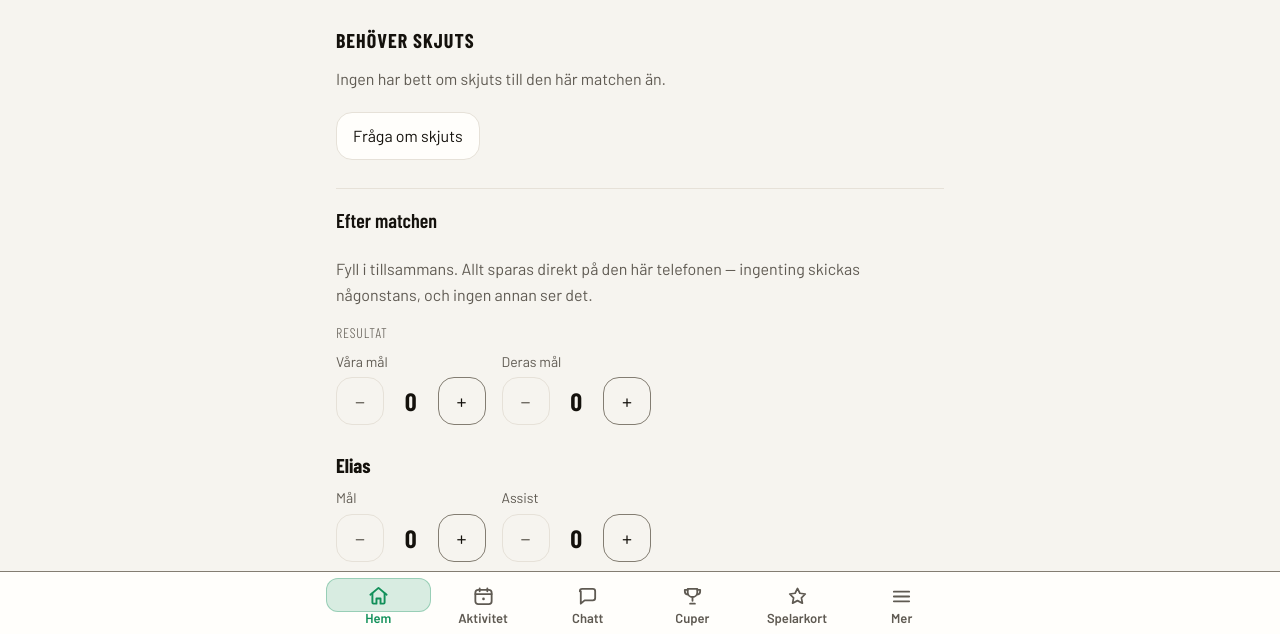
Test: firandet sker när märket låses upp › dyker upp i matchrapporten när målet fylls i
(page scrolled)
Expected: the text "Nytt märke!" is not shown
Click the button named "Öka Mål — Elias" at (462, 538), box [438,514,486,562]
(page scrolled)
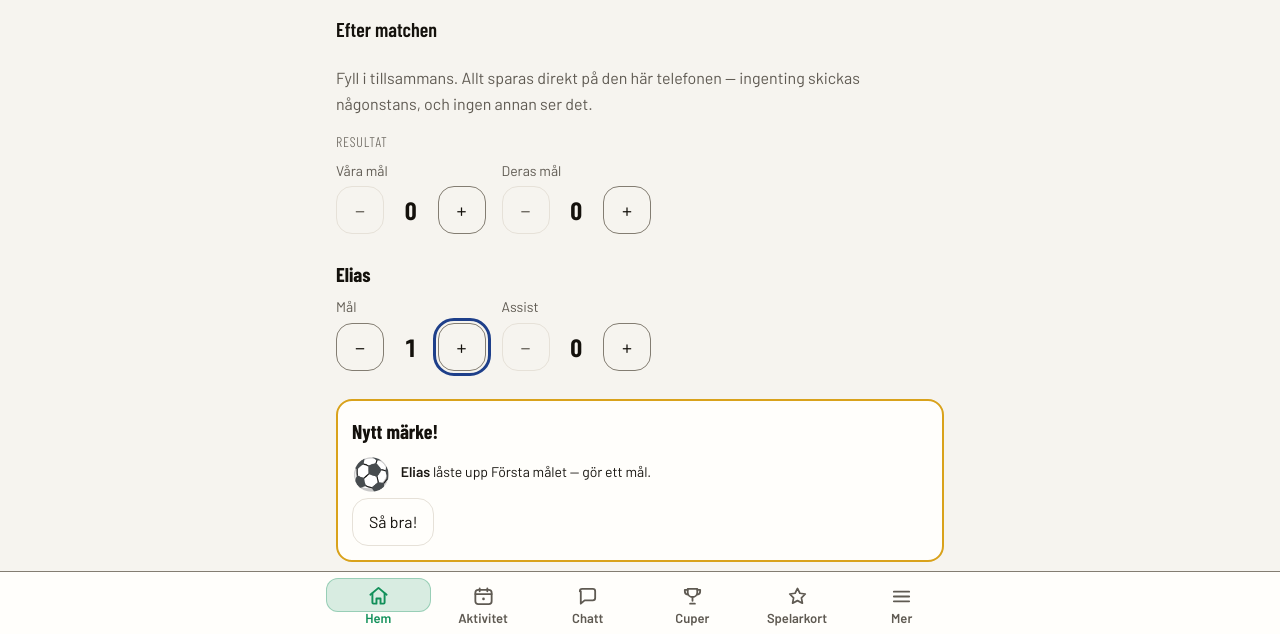
Expected: the heading "Nytt märke!" is shown, [352,415,438,447]
Expected: the text "Elias låste upp Första målet — gör ett mål." is shown, [401,461,651,483]
